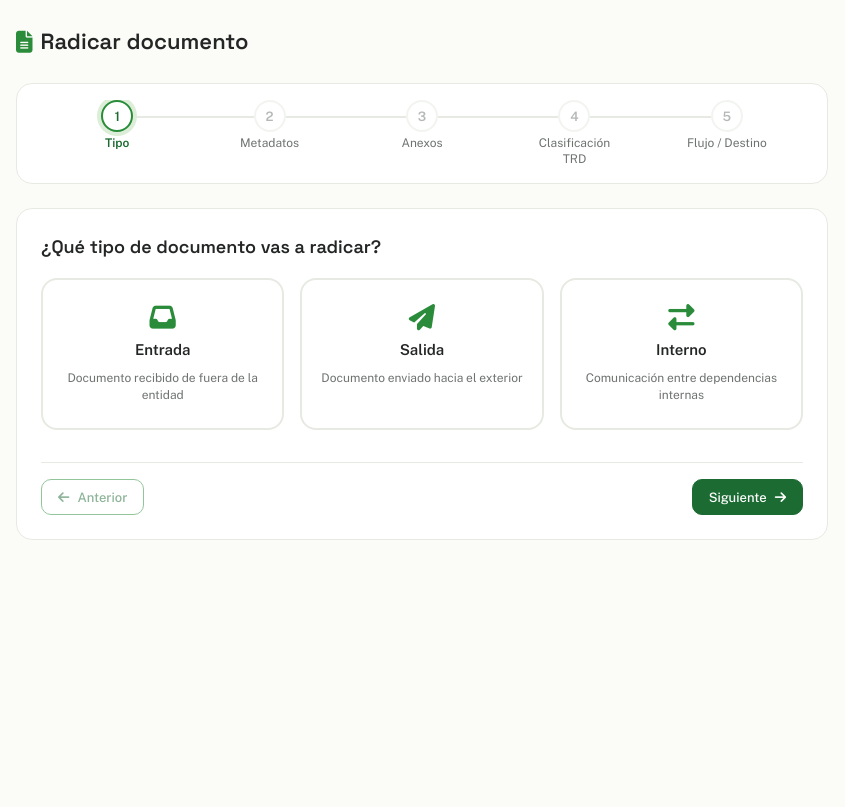
/radicar — campo dinámico de metadatos vía SchemaField (E03/T-12) › una propiedad no soportada (object) NO se renderiza y muestra el aviso de campos no editables
The image size is (845, 807).
Click the radio button labelled "Entrada Documento recibido de fuera de la entidad" at (163, 354), box [41, 278, 284, 430]
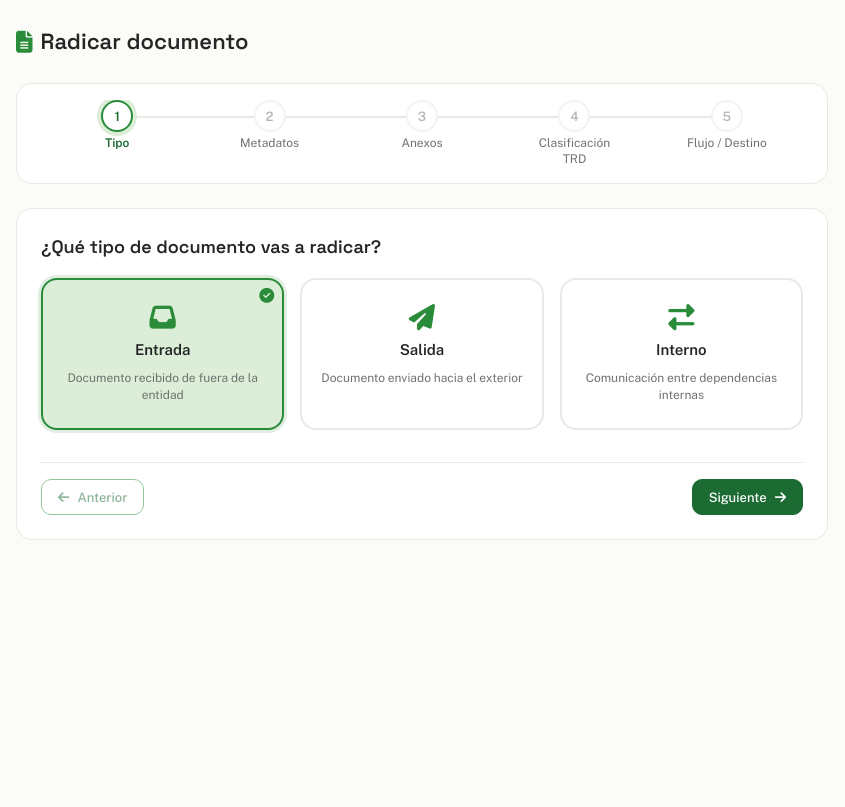
Click the 2nd button named "Siguiente" at (747, 497), box [692, 479, 803, 515]
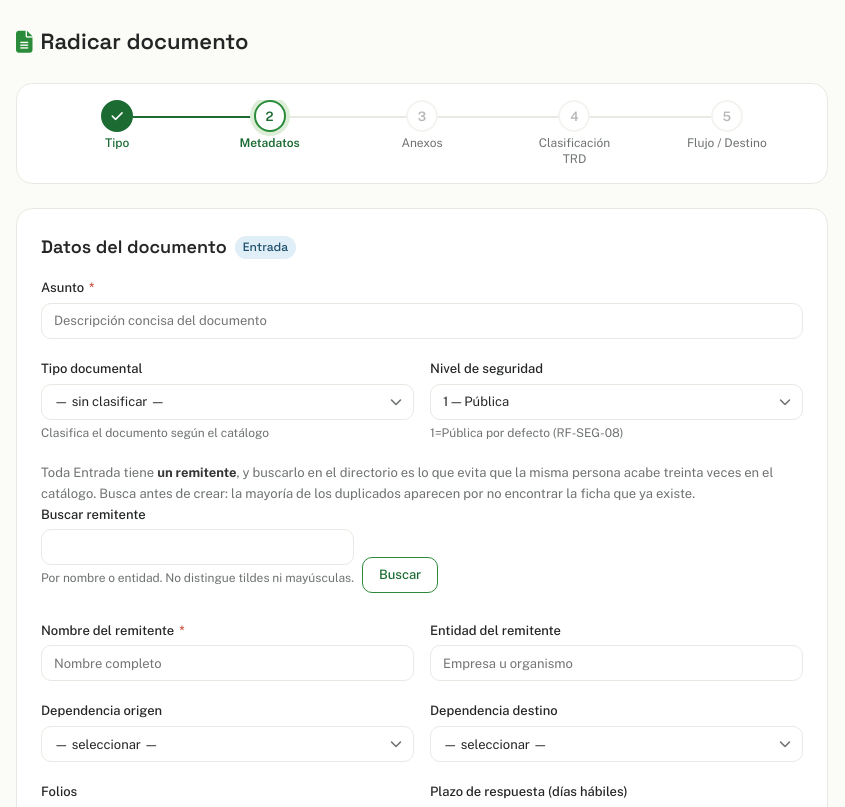
Type "Radicación de prueba" into the field labelled "Asunto" at (422, 321), box [41, 303, 803, 339]
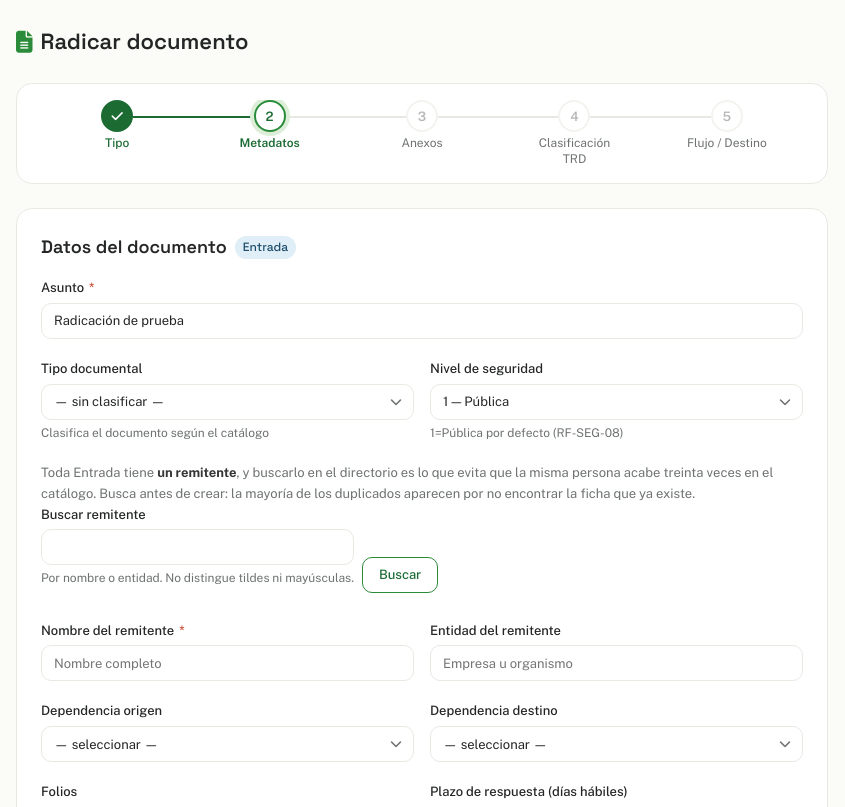
Type "Juan Pérez" into the field labelled "Nombre del remitente" at (228, 663), box [41, 645, 414, 681]
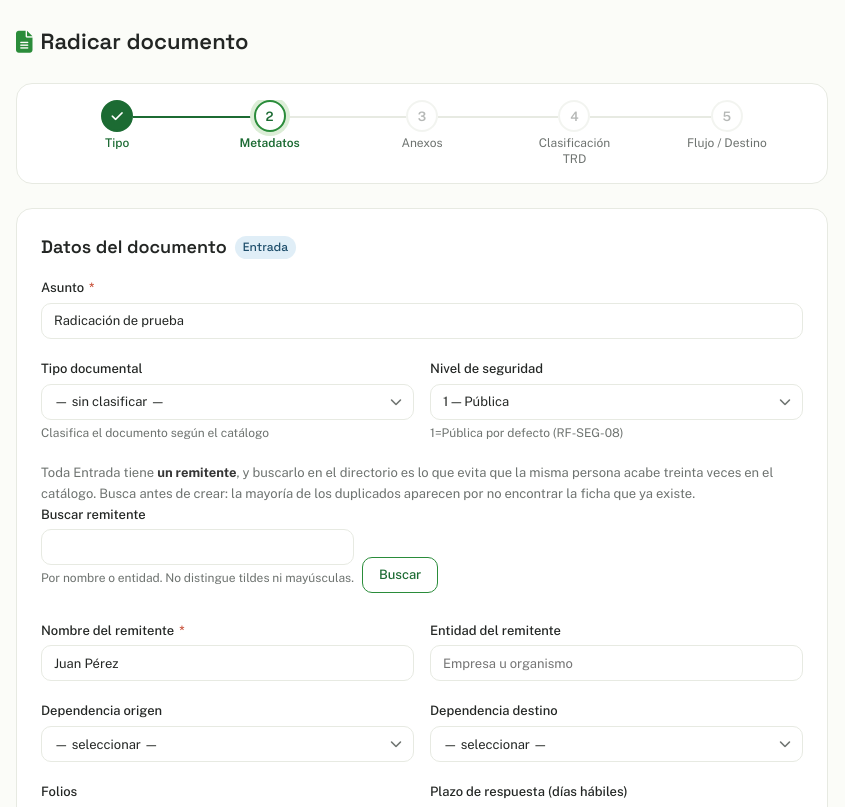
Select "Resolución" in the dropdown labelled "Tipo documental" at (228, 402), box [41, 384, 414, 420]
(page scrolled)
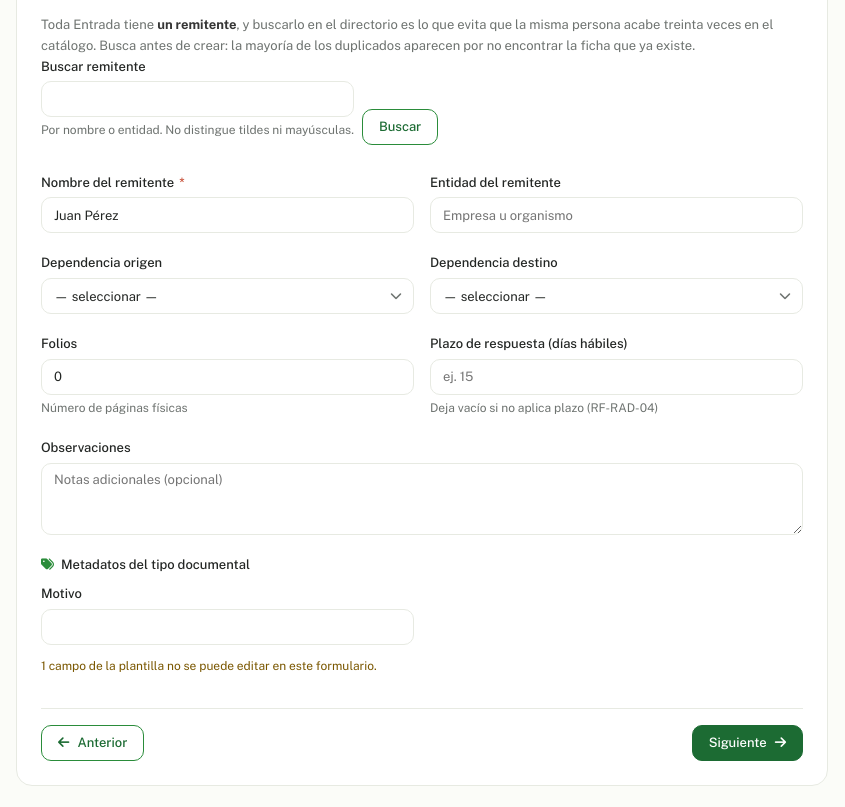
Result: the field labelled "Motivo" is shown at [41, 608, 414, 644]
Result: the text "1 campo de la plantilla no se puede editar en este formulario." is shown at [41, 658, 377, 672]
